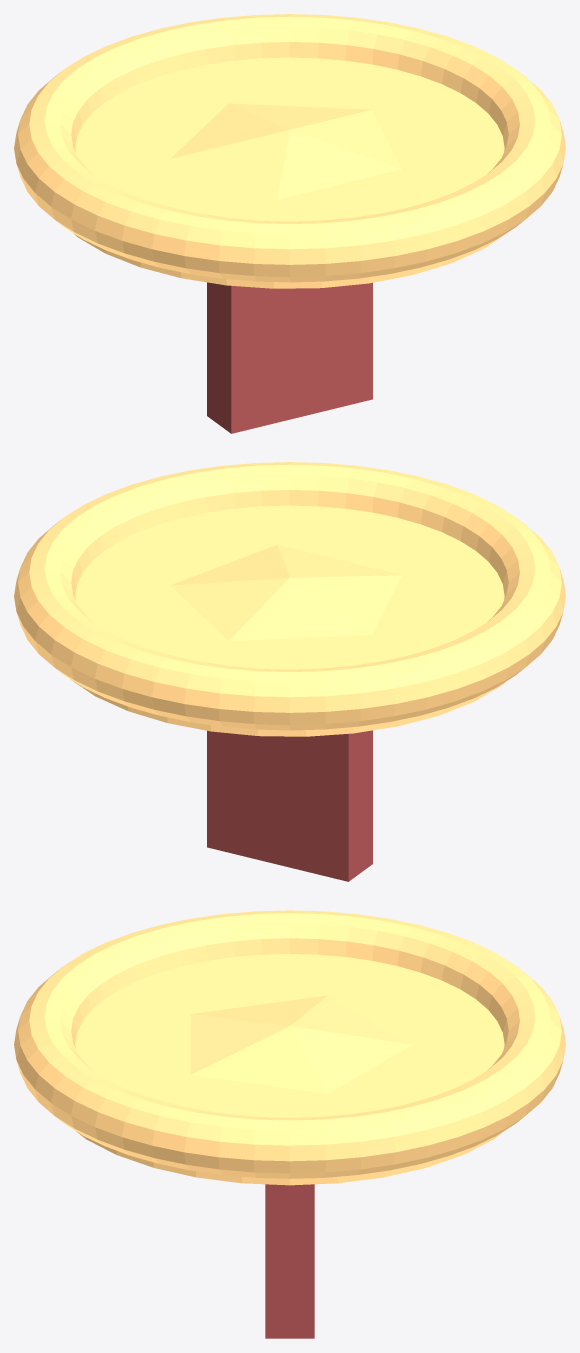
Rendered from badge_bronze.glb.
3 renders of one model, top to bottom at view 1: azimuth 30°, elevation 25°; view 2: azimuth 150°, elevation 25°; view 3: azimuth 270°, elevation 25°, orthographic.
Visible parts, largest first — view 1: Torus.005, Cylinder, Cube, Cone; view 2: Torus.005, Cylinder, Cube, Cone; view 3: Torus.005, Cylinder, Cone, Cube.
Boxes of the visible parts, x1,y1,x2,y2 form: Torus.005: (14,14,565,282); Cylinder: (74,57,507,288); Cube: (207,282,372,433); Cone: (170,103,401,199); Torus.005: (14,462,565,730); Cylinder: (72,505,505,736); Cube: (207,730,372,881); Cone: (170,544,401,640); Torus.005: (14,910,565,1178); Cylinder: (75,954,504,1185); Cone: (190,995,412,1093); Cube: (265,1184,314,1338).
Bounding box in the file's own units: 0.27 × 0.155 × 0.27.
